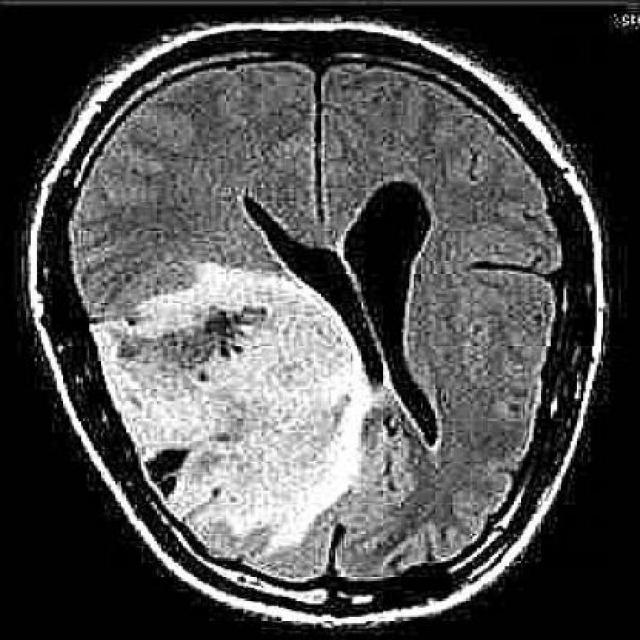Brain-Tumor: (76, 244, 387, 576)
